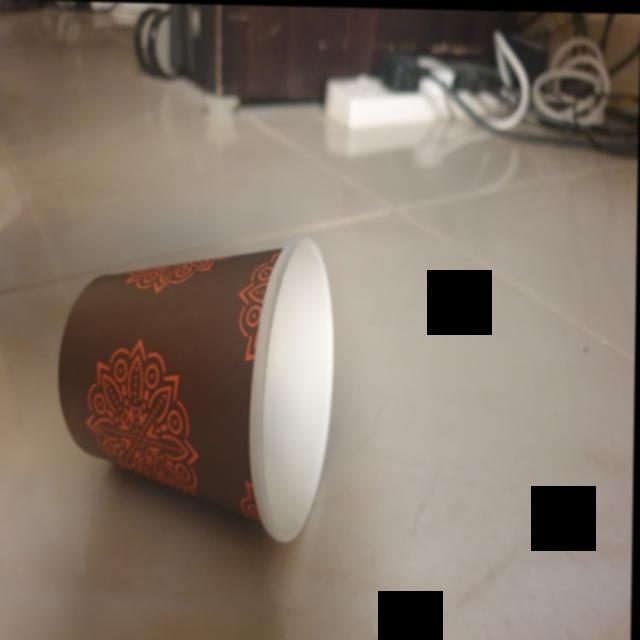cups: (54, 225, 338, 545)
